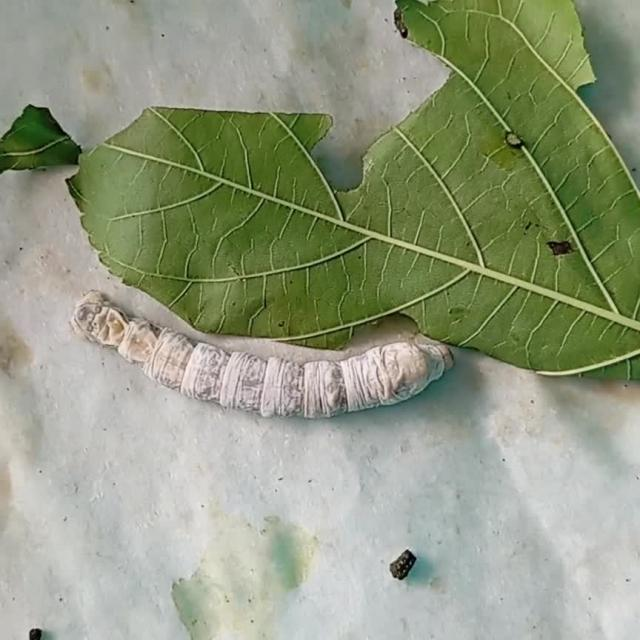Grasserie: (66, 255, 472, 437)
